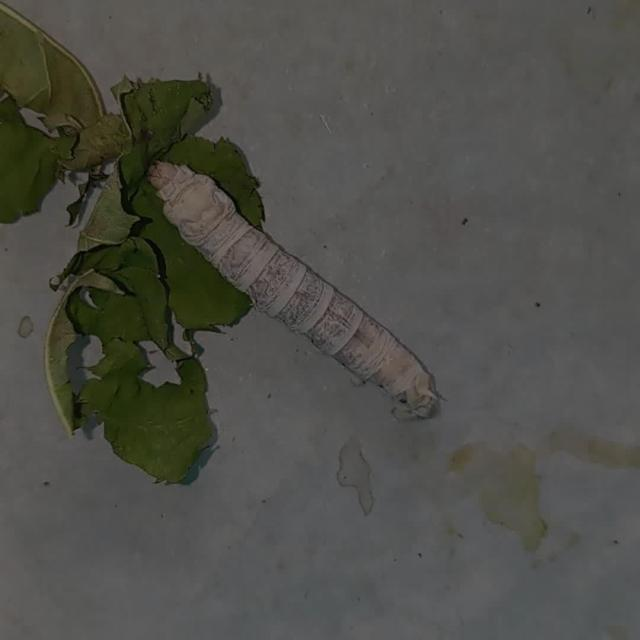Grasserie: (122, 126, 459, 436)
